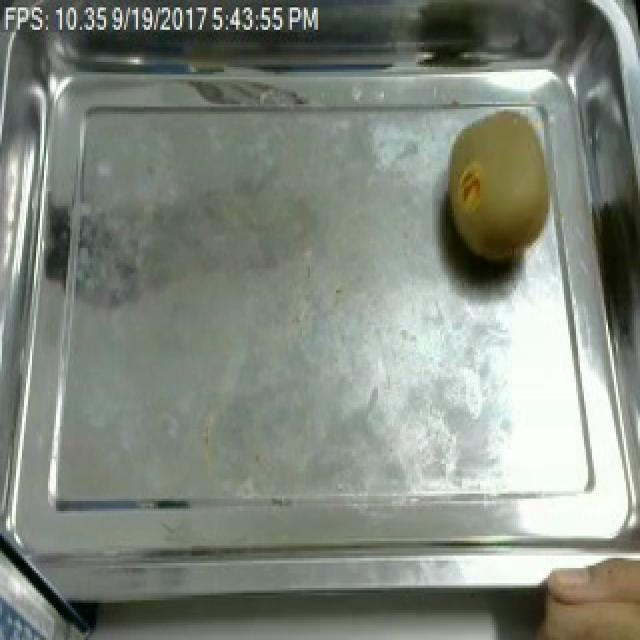Fruit: (432, 104, 572, 278), (514, 543, 640, 640)
